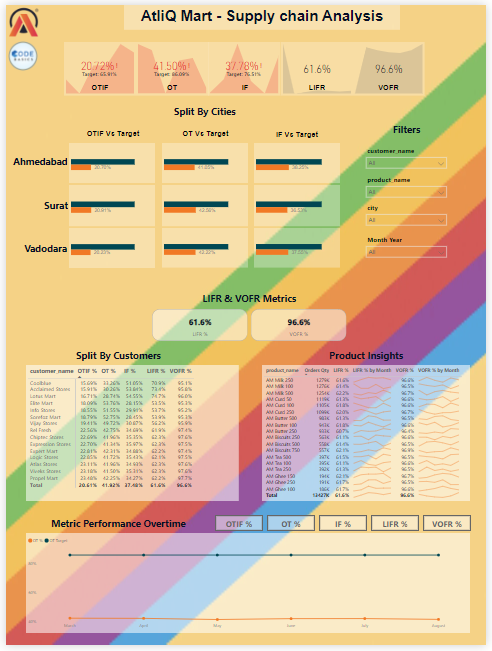

Layout of this report page (visuals, bound fields, positions):
{"tool":"powerbi","page":{"name":"Supply_Chain","canvas":[1200,1600],"ordinal":0},"visuals":[{"type":"image","box":[3.3,0,85,85],"z":0},{"type":"image","box":[0,85,85,85],"z":1000},{"type":"kpi","fields":{"Indicator":["KM Order Agg.OTIF %"],"Goal":["KM Target Orders.Avg OTIF Tar"],"TrendLine":["dim_date.Month"]},"box":[143.9,91.4,180,134],"z":2000},{"type":"kpi","fields":{"Goal":["KM Target Orders.Avg In_Full Tar"],"Indicator":["KM Order Agg.IF %"],"TrendLine":["dim_date.Month"]},"box":[505.2,91.4,181.4,134],"z":3000},{"type":"kpi","fields":{"Indicator":["KM Order Agg.OT %"],"Goal":["KM Target Orders.Avg On_Time Tar"],"TrendLine":["dim_date.Month"]},"box":[323.9,91.4,181.4,134],"z":4000},{"type":"textbox","box":[144.1,189.2,180.5,37.9],"z":5000},{"type":"textbox","box":[324.6,189.2,180.5,37.9],"z":6000},{"type":"textbox","box":[506.6,189.2,180.5,37.9],"z":7000},{"type":"textbox","box":[158.3,245,678.3,43.3],"z":8000},{"type":"kpi","fields":{"Indicator":["KM Order Lines.LIFR %"],"TrendLine":["dim_date.Month"]},"box":[686.2,91.2,180,133.8],"z":9000},{"type":"kpi","fields":{"Indicator":["KM Order Lines.VOFR %"],"TrendLine":["dim_date.Month"]},"box":[866.2,91.2,178.8,133.8],"z":10000},{"type":"clusteredBarChart","fields":{"Y":["KM Order Agg.OTIF %","KM Target Orders.Avg OTIF Tar"]},"box":[158.6,344.3,215,100],"z":11000},{"type":"clusteredBarChart","fields":{"Y":["KM Order Agg.OTIF %","KM Target Orders.Avg OTIF Tar"]},"box":[158.6,449.3,215,102.9],"z":12000},{"type":"clusteredBarChart","fields":{"Y":["KM Order Agg.OTIF %","KM Target Orders.Avg OTIF Tar"]},"box":[158.6,557.1,215,100],"z":13000},{"type":"clusteredBarChart","fields":{"Y":["KM Order Agg.OT %","KM Target Orders.Avg On_Time Tar"]},"box":[390,344.2,215,100],"z":14000},{"type":"clusteredBarChart","fields":{"Y":["KM Order Agg.OT %","KM Target Orders.Avg On_Time Tar"]},"box":[390,449.2,215,102.5],"z":15000},{"type":"clusteredBarChart","fields":{"Y":["KM Order Agg.OT %","KM Target Orders.Avg On_Time Tar"]},"box":[389.7,558,215,99.2],"z":16000},{"type":"clusteredBarChart","fields":{"Y":["KM Order Agg.IF %","KM Target Orders.Avg In_Full Tar"]},"box":[620.8,344.2,215,100],"z":17000},{"type":"clusteredBarChart","fields":{"Y":["KM Order Agg.IF %","KM Target Orders.Avg In_Full Tar"]},"box":[620.8,449.2,215,102.5],"z":18000},{"type":"clusteredBarChart","fields":{"Y":["KM Order Agg.IF %","KM Target Orders.Avg In_Full Tar"]},"box":[620.8,558,215,99.2],"z":19000},{"type":"textbox","box":[1.6,370.8,156.2,43.8],"z":20000},{"type":"textbox","box":[1.6,479.5,157.5,42.5],"z":21000},{"type":"textbox","box":[1.6,587,155,43.8],"z":22000},{"type":"textbox","box":[159,306,215,40],"z":23000},{"type":"textbox","box":[390,305.8,217.5,38.3],"z":24000},{"type":"textbox","box":[620.8,307.5,215,36.7],"z":25000},{"type":"textbox","box":[296,0,690,62],"z":26000},{"type":"slicer","fields":{"Values":["dim_customers.customer_name"]},"box":[890,346.7,221.7,71.7],"z":27000},{"type":"slicer","fields":{"Values":["dim_products.product_name"]},"box":[890,418.9,222.2,72.2],"z":28000},{"type":"slicer","fields":{"Values":["dim_customers.city"]},"box":[890,491.1,222.2,72.2],"z":29000},{"type":"slicer","fields":{"Values":["dim_date.mmm_yy"]},"box":[890,571.1,222.2,71.1],"z":30000},{"type":"textbox","box":[686.2,188.8,180,36.2],"z":31000},{"type":"textbox","box":[867.5,188.8,177.5,36.2],"z":32000},{"type":"textbox","box":[890,288.9,222.2,55.6],"z":33000},{"type":"pivotTable","fields":{"Rows":["dim_products.product_name"],"Values":["KM Order Lines.Total Orders Qty","KM Order Lines.LIFR %","SparklineData(KM Order Lines.LIFR %_[dim_date.Month])","KM Order Lines.VOFR %","SparklineData(KM Order Lines.VOFR %_[dim_date.Month])"]},"box":[640,900,520,340],"z":34000},{"type":"cardVisual","fields":{"Data":["KM Order Lines.LIFR %","KM Order Lines.VOFR %"]},"box":[360,754,496,90],"z":35000},{"type":"textbox","box":[360,711.4,495.7,42.9],"z":36000},{"type":"pivotTable","fields":{"Rows":["dim_customers.customer_name"],"Values":["KM Order Agg.OTIF %","KM Order Agg.OT %","KM Order Agg.IF %","KM Order Lines.LIFR %","KM Order Lines.VOFR %"]},"box":[50,900,532,340],"z":37000},{"type":"textbox","box":[50,854,462,44],"z":38000},{"type":"textbox","box":[640,854,520,44],"z":39000},{"type":"textbox","box":[51.2,1275,456.2,45],"z":41000},{"type":"actionButton","box":[651.2,1275,120,40],"z":42000},{"type":"actionButton","box":[521.2,1275,120,40],"z":43000},{"type":"actionButton","box":[781.2,1275,120,40],"z":44000},{"type":"actionButton","box":[1041.2,1275,120,40],"z":45000},{"type":"actionButton","box":[911.2,1275,120,40],"z":46000},{"type":"lineChart","fields":{"Category":["dim_date.date.Variation.Date Hierarchy.Month"],"Y":["KM Order Agg.OT %","KM Target Orders.Avg On_Time Tar"]},"box":[50,1320,1110,250],"z":47000}]}

Visuals, with their boxes in screenshot pixels (x1, y1, x2, y2), scaled from the page's 1200x1600 canvas onto the 492x651 screenshot:
image: bbox=[1, 0, 36, 35]
image: bbox=[0, 35, 35, 69]
kpi - KM Order Agg.OTIF % x KM Target Orders.Avg OTIF Tar: bbox=[59, 37, 133, 92]
kpi - KM Target Orders.Avg In_Full Tar x KM Order Agg.IF %: bbox=[207, 37, 282, 92]
kpi - KM Order Agg.OT % x KM Target Orders.Avg On_Time Tar: bbox=[133, 37, 207, 92]
textbox: bbox=[59, 77, 133, 92]
textbox: bbox=[133, 77, 207, 92]
textbox: bbox=[208, 77, 282, 92]
textbox: bbox=[65, 100, 343, 117]
kpi - KM Order Lines.LIFR % x dim_date.Month: bbox=[281, 37, 355, 92]
kpi - KM Order Lines.VOFR % x dim_date.Month: bbox=[355, 37, 428, 92]
clusteredBarChart - KM Order Agg.OTIF % x KM Target Orders.Avg OTIF Tar: bbox=[65, 140, 153, 181]
clusteredBarChart - KM Order Agg.OTIF % x KM Target Orders.Avg OTIF Tar: bbox=[65, 183, 153, 225]
clusteredBarChart - KM Order Agg.OTIF % x KM Target Orders.Avg OTIF Tar: bbox=[65, 227, 153, 267]
clusteredBarChart - KM Order Agg.OT % x KM Target Orders.Avg On_Time Tar: bbox=[160, 140, 248, 181]
clusteredBarChart - KM Order Agg.OT % x KM Target Orders.Avg On_Time Tar: bbox=[160, 183, 248, 224]
clusteredBarChart - KM Order Agg.OT % x KM Target Orders.Avg On_Time Tar: bbox=[160, 227, 248, 267]
clusteredBarChart - KM Order Agg.IF % x KM Target Orders.Avg In_Full Tar: bbox=[255, 140, 343, 181]
clusteredBarChart - KM Order Agg.IF % x KM Target Orders.Avg In_Full Tar: bbox=[255, 183, 343, 224]
clusteredBarChart - KM Order Agg.IF % x KM Target Orders.Avg In_Full Tar: bbox=[255, 227, 343, 267]
textbox: bbox=[1, 151, 65, 169]
textbox: bbox=[1, 195, 65, 212]
textbox: bbox=[1, 239, 64, 257]
textbox: bbox=[65, 125, 153, 141]
textbox: bbox=[160, 124, 249, 140]
textbox: bbox=[255, 125, 343, 140]
textbox: bbox=[121, 0, 404, 25]
slicer - dim_customers.customer_name: bbox=[365, 141, 456, 170]
slicer - dim_products.product_name: bbox=[365, 170, 456, 200]
slicer - dim_customers.city: bbox=[365, 200, 456, 229]
slicer - dim_date.mmm_yy: bbox=[365, 232, 456, 261]
textbox: bbox=[281, 77, 355, 92]
textbox: bbox=[356, 77, 428, 92]
textbox: bbox=[365, 118, 456, 140]
pivotTable - dim_products.product_name x KM Order Lines.Total Orders Qty: bbox=[262, 366, 476, 505]
cardVisual - KM Order Lines.LIFR % x KM Order Lines.VOFR %: bbox=[148, 307, 351, 343]
textbox: bbox=[148, 289, 351, 307]
pivotTable - dim_customers.customer_name x KM Order Agg.OTIF %: bbox=[20, 366, 239, 505]
textbox: bbox=[20, 347, 210, 365]
textbox: bbox=[262, 347, 476, 365]
textbox: bbox=[21, 519, 208, 537]
actionButton: bbox=[267, 519, 316, 535]
actionButton: bbox=[214, 519, 263, 535]
actionButton: bbox=[320, 519, 369, 535]
actionButton: bbox=[427, 519, 476, 535]
actionButton: bbox=[374, 519, 423, 535]
lineChart - dim_date.date.Variation.Date Hierarchy.Month x KM Order Agg.OT %: bbox=[20, 537, 476, 639]
